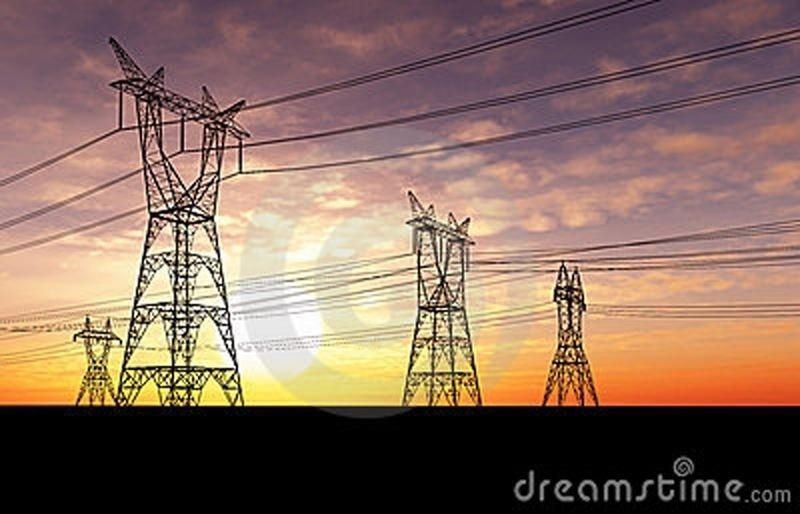power_tower: (97, 24, 259, 404), (390, 184, 491, 402), (537, 259, 598, 405), (58, 307, 128, 402)
